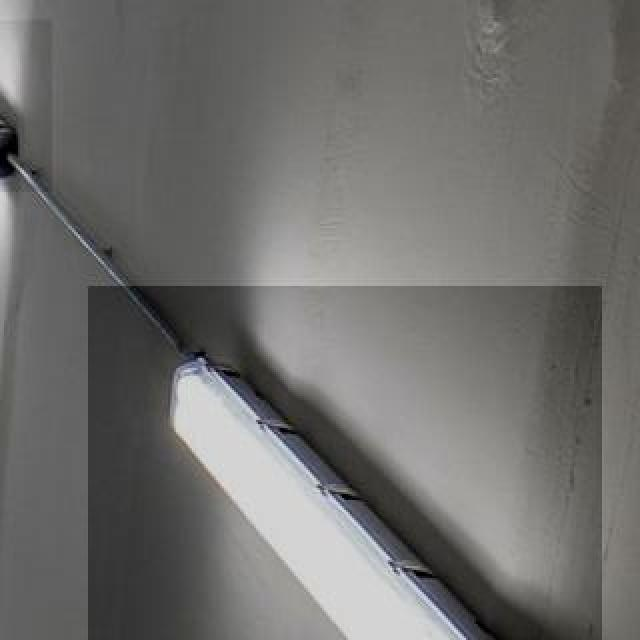fluorescent tube: (130, 286, 536, 640), (0, 18, 32, 214)
